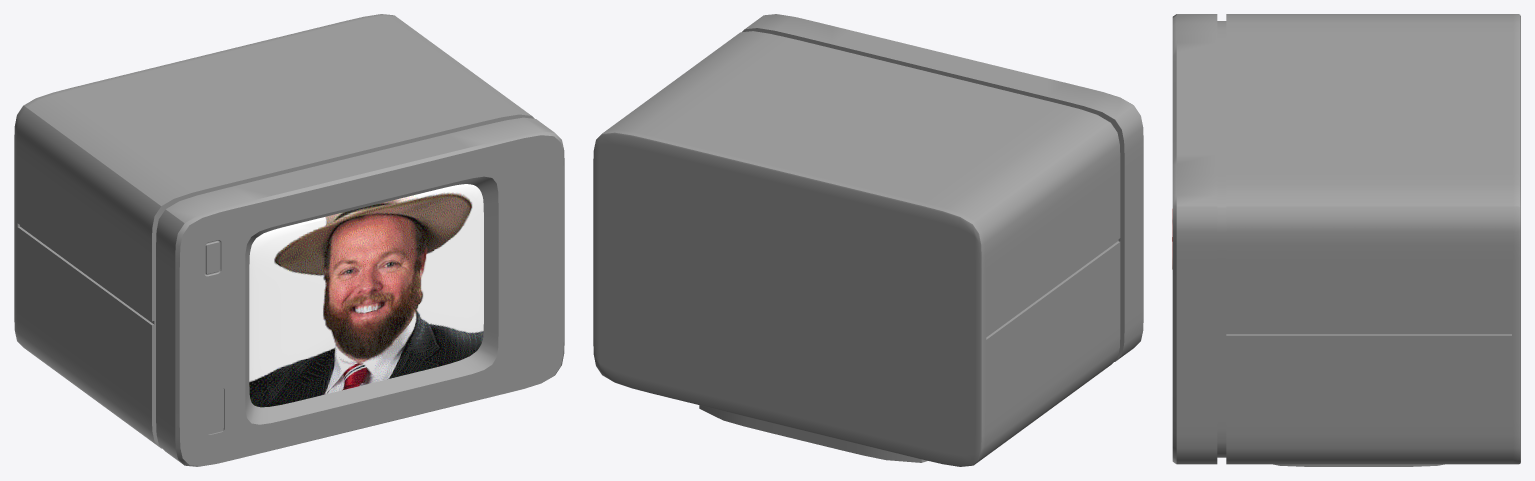
Rendered from testUV9.gltf.
3 views of the same model, side by side, from view 1: azimuth 30°, elevation 25°; view 2: azimuth 150°, elevation 25°; view 3: azimuth 270°, elevation 25° (orthographic). The views are drawn at different scales.
Visible parts, largest first — view 1: Case, Glass; view 2: Case; view 3: Case.
Part boxes in pixels (box(x1,y1,x2,y2)): Case: box(14, 14, 564, 466); Glass: box(249, 184, 483, 407); Case: box(593, 14, 1143, 466); Case: box(1172, 14, 1520, 466).
Size of the model in its own units: 3.2 by 2.2 by 2.33.
Materials: 2 (1 with a texture image).
